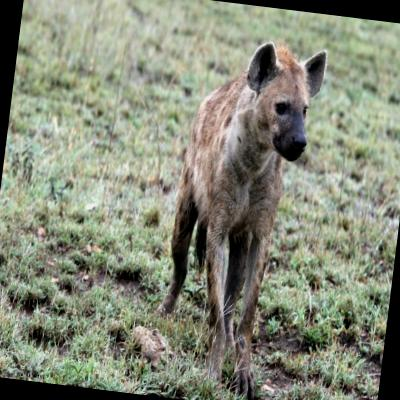hyenas: (109, 19, 400, 400)
